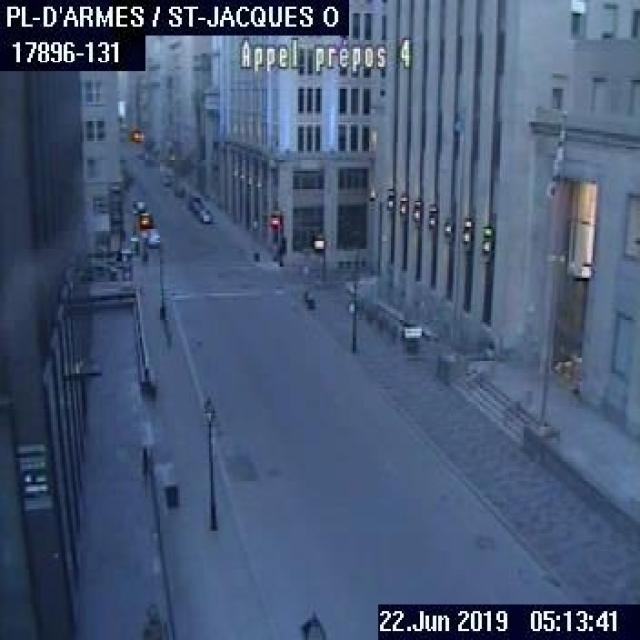vehicle: (141, 226, 160, 246), (138, 210, 152, 227), (198, 206, 211, 222), (131, 198, 144, 213), (172, 184, 184, 196), (161, 171, 170, 185)
